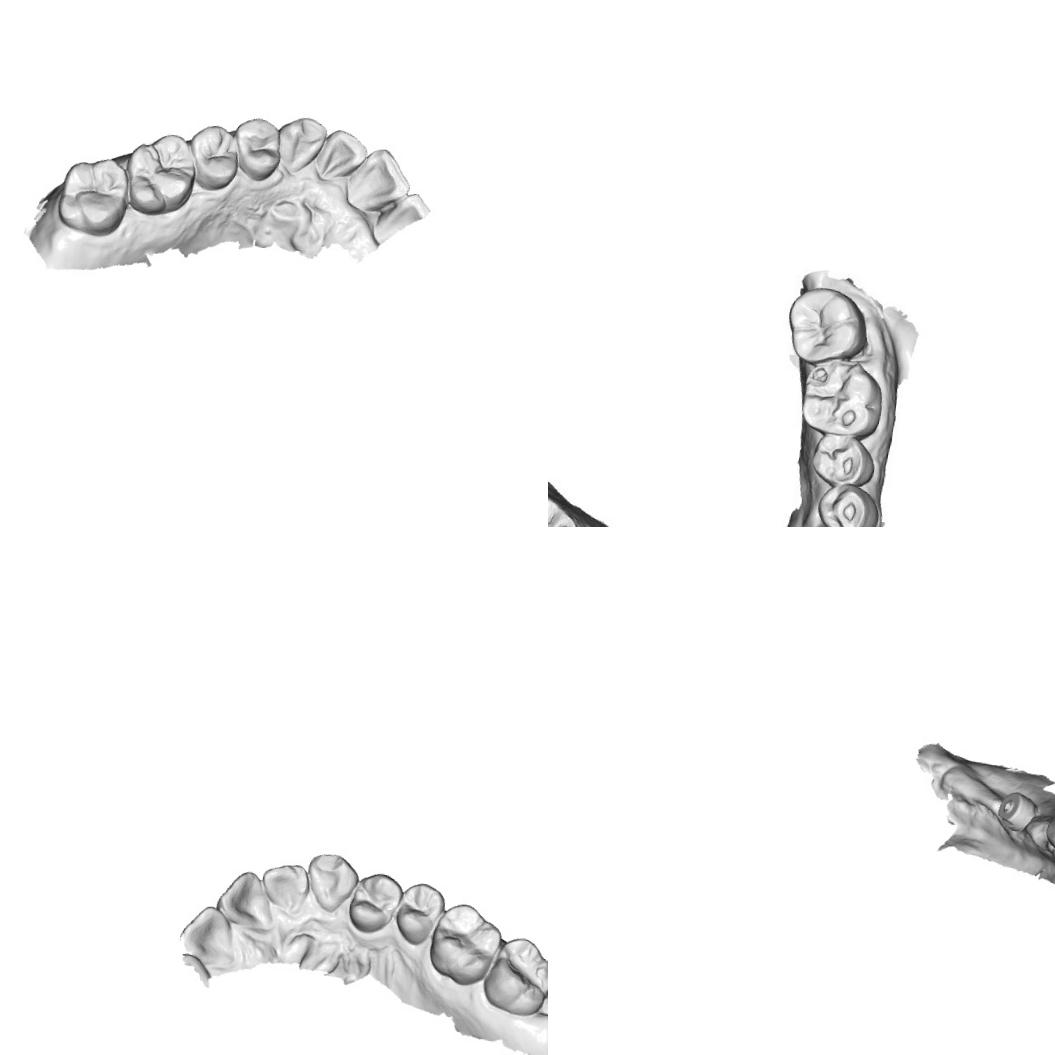canine: (302, 850, 362, 916), (274, 112, 328, 179)
implant: (990, 787, 1042, 838)
incisor: (341, 142, 417, 220), (212, 867, 279, 930), (174, 902, 237, 968), (311, 124, 372, 188), (258, 860, 312, 911), (1030, 815, 1055, 868)
molar: (782, 282, 873, 370), (798, 354, 889, 441), (119, 128, 203, 222), (52, 152, 136, 241), (426, 900, 506, 990), (479, 933, 548, 1020)
premolar: (181, 119, 246, 195), (227, 109, 287, 188), (808, 430, 878, 490), (346, 870, 406, 938), (392, 879, 448, 948), (813, 480, 882, 527)
